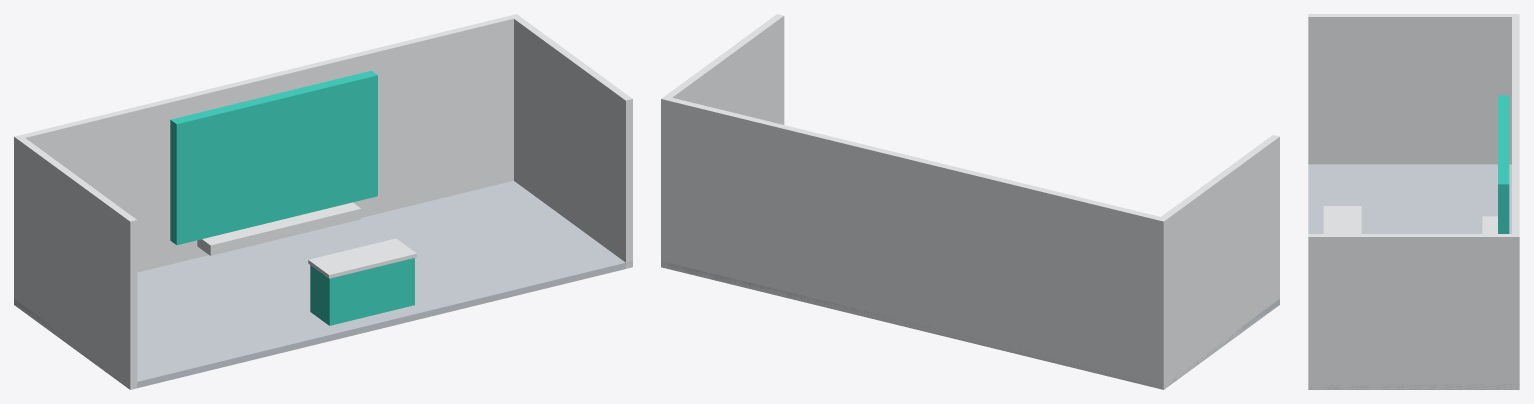
3 views of the same model, side by side, from view 1: azimuth 30°, elevation 25°; view 2: azimuth 150°, elevation 25°; view 3: azimuth 270°, elevation 25° (orthographic). The views are drawn at different scales.
Visible parts, largest first — view 1: Exhibition Booth Concept; view 2: Exhibition Booth Concept; view 3: Exhibition Booth Concept.
Part boxes in pixels (x1=…): Exhibition Booth Concept: x1=14, y1=14, x2=632, y2=389; Exhibition Booth Concept: x1=661, y1=14, x2=1279, y2=389; Exhibition Booth Concept: x1=1308, y1=14, x2=1519, y2=389.
Size of the model in its own units: 10 by 3.2 by 4.
